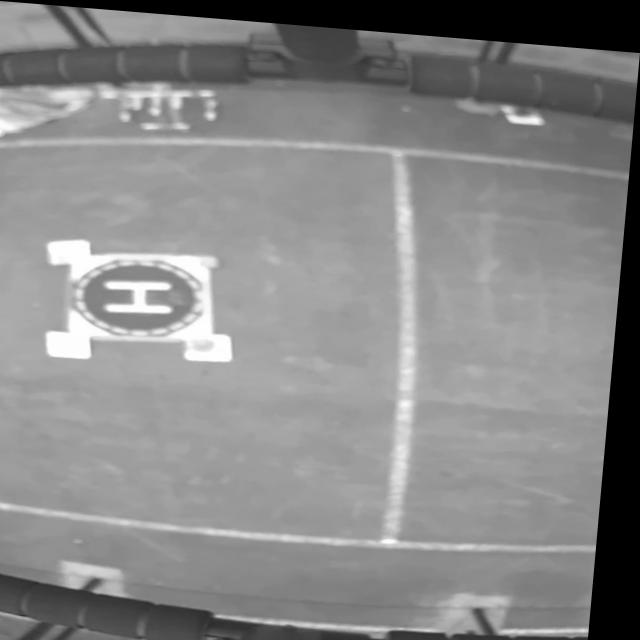Helipad: (109, 277, 180, 309)
